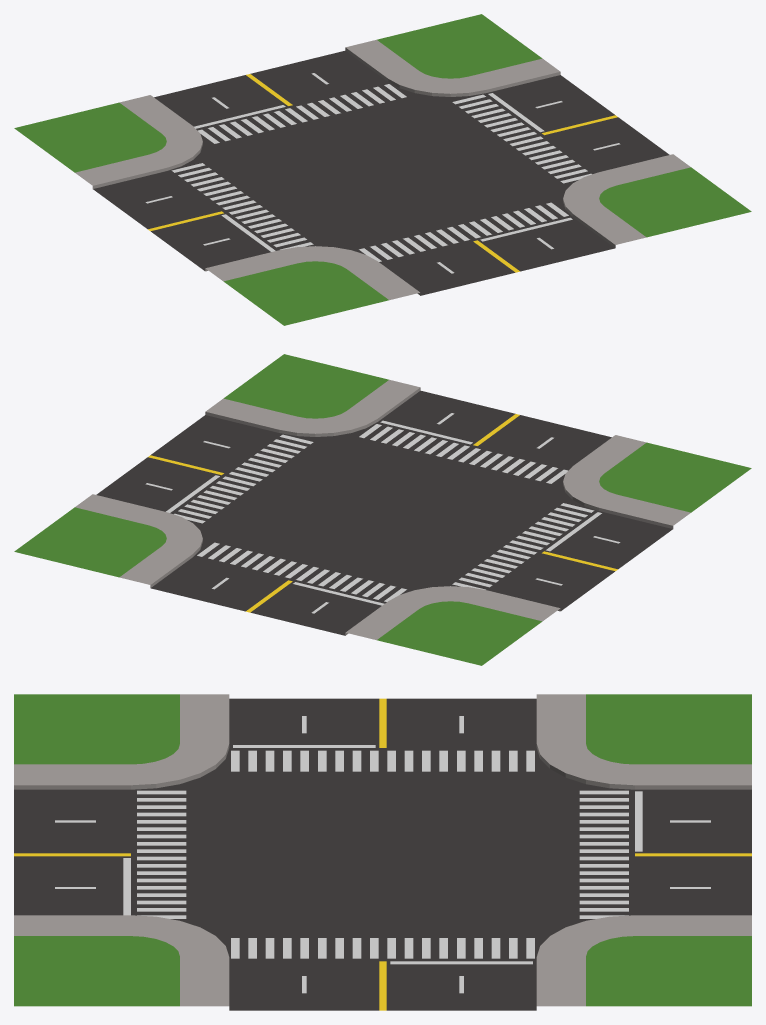
The model's file is tiles-nb_tile-mainroad-intersection-nb.fbx.
3 views of the same model, one above another, from view 1: azimuth 30°, elevation 25°; view 2: azimuth 150°, elevation 25°; view 3: azimuth 270°, elevation 25° (orthographic). The views are drawn at different scales.
Parts seen in each view (by area): view 1: tiles_nb_tile_mainroad_intersection_nb; view 2: tiles_nb_tile_mainroad_intersection_nb; view 3: tiles_nb_tile_mainroad_intersection_nb.
Part boxes in pixels (<box>): tiles_nb_tile_mainroad_intersection_nb: <box>14,14,751,325</box>; tiles_nb_tile_mainroad_intersection_nb: <box>14,354,751,665</box>; tiles_nb_tile_mainroad_intersection_nb: <box>14,694,751,1010</box>.
Bounding box in the file's own units: 200 × 1.33 × 200.
